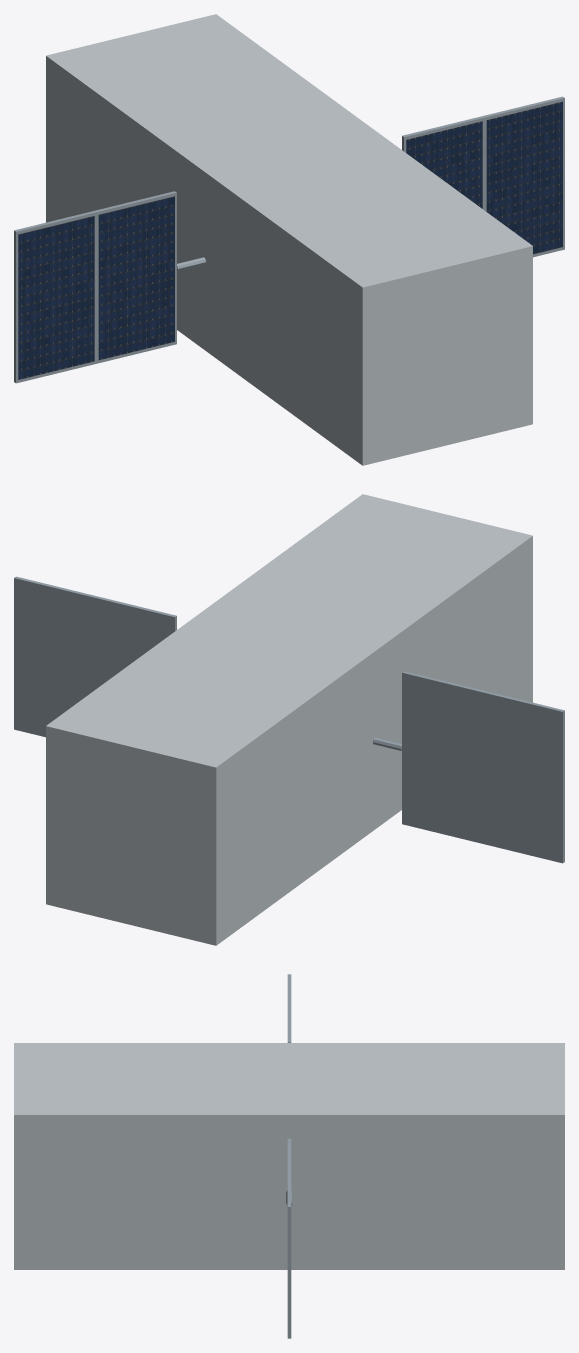
The model's file is ref-xte-23757.glb.
3 renders of one model, top to bottom at view 1: azimuth 30°, elevation 25°; view 2: azimuth 150°, elevation 25°; view 3: azimuth 270°, elevation 25°, orthographic. The views are drawn at different scales.
Visible parts, largest first — view 1: Spacecraft body, Photovoltaic laminates (×4), Array frame (×4); view 2: Spacecraft body, Array frame (×4); view 3: Spacecraft body, Array frame.
Part boxes in pixels (box(x1,y1,x2,y2)): Spacecraft body: box(46, 14, 532, 465); Photovoltaic laminates (×4): box(18, 101, 562, 379); Array frame (×4): box(14, 96, 564, 383); Spacecraft body: box(46, 494, 532, 945); Array frame (×4): box(14, 576, 564, 863); Spacecraft body: box(14, 1043, 564, 1269); Array frame: box(287, 1173, 291, 1338).
Size of the model in its own units: 5.8 by 1.8 by 5.8.
Materials: 3 (1 with a texture image).
